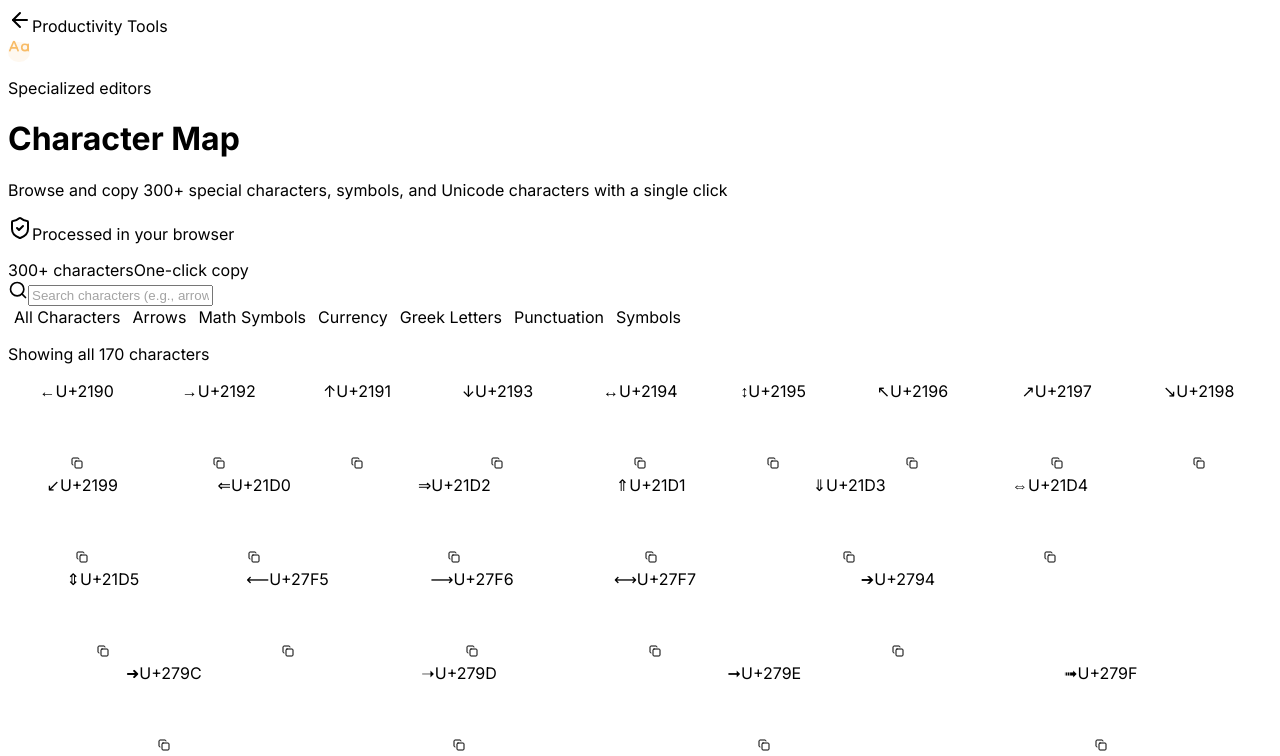
Test case: CharacterMapPage › category selection › shows singular "character" for category with 1 character
Type "Hryvnia" into the field with placeholder "Search characters (e.g., arrow, pi, euro)..." at (120, 295), box top-left (28, 285), bottom-right (213, 306)
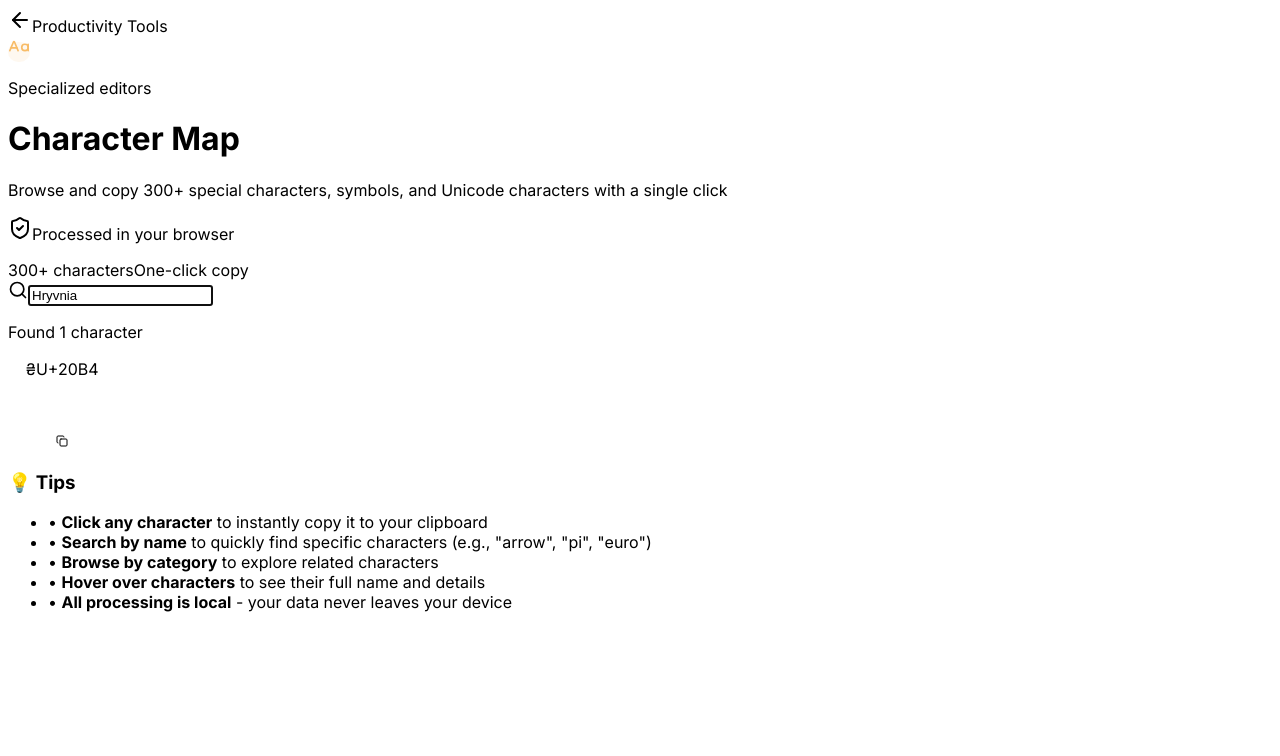
Expected: the text "Found 1 character" is shown, top-left (8, 322), bottom-right (143, 342)
